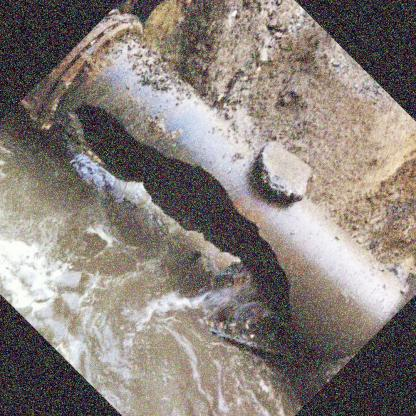burst: (70, 102, 302, 336)
